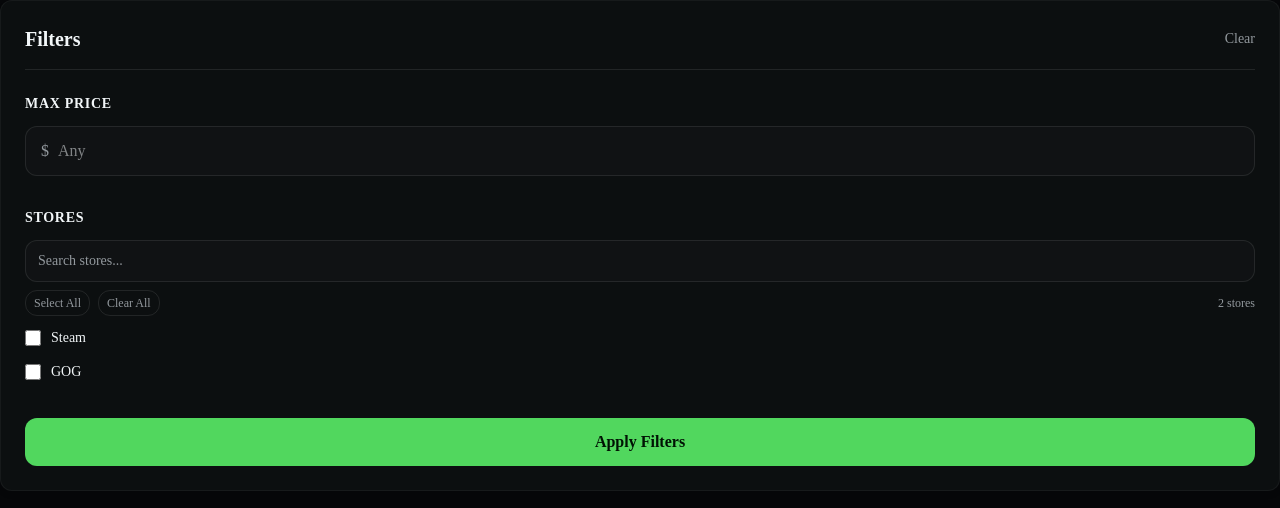
Scenario: FilterSidebar › clear filters resets state and pushes clean URL
Click the text "Steam" at (68, 338), box [51, 328, 86, 348]
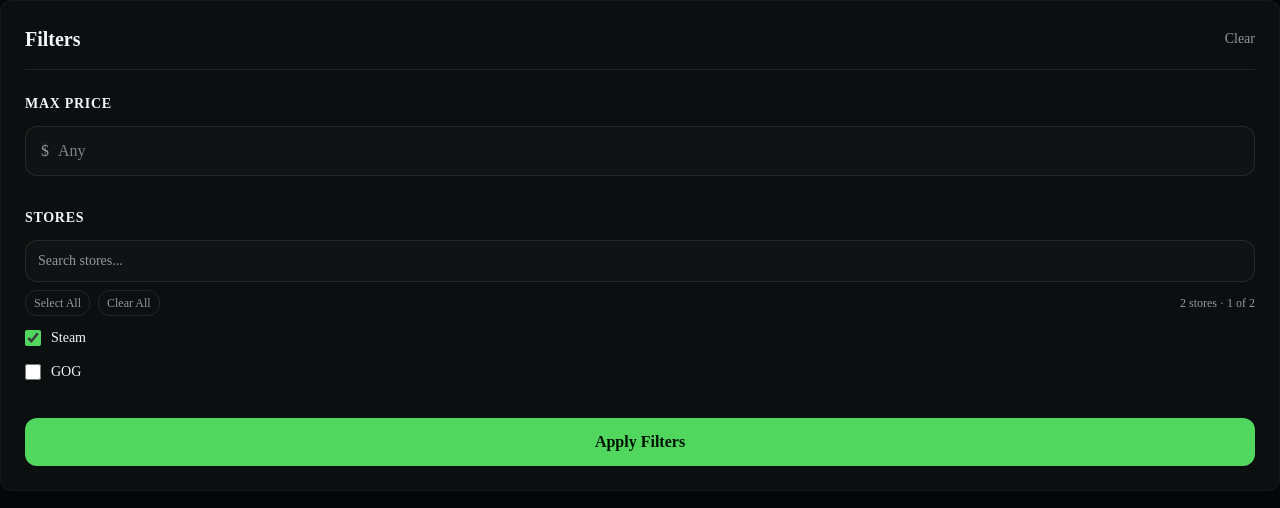
Type "25" into the number field named "Maximum price" at (640, 151), box [25, 126, 1255, 176]
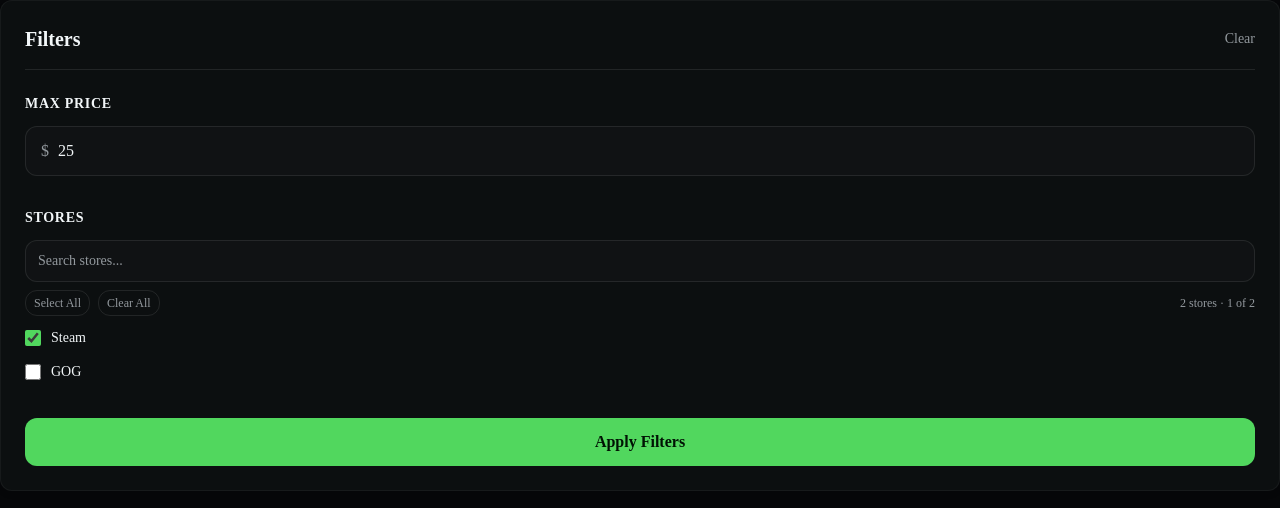
Click the button "Clear" at (1240, 39), box [1225, 29, 1255, 49]
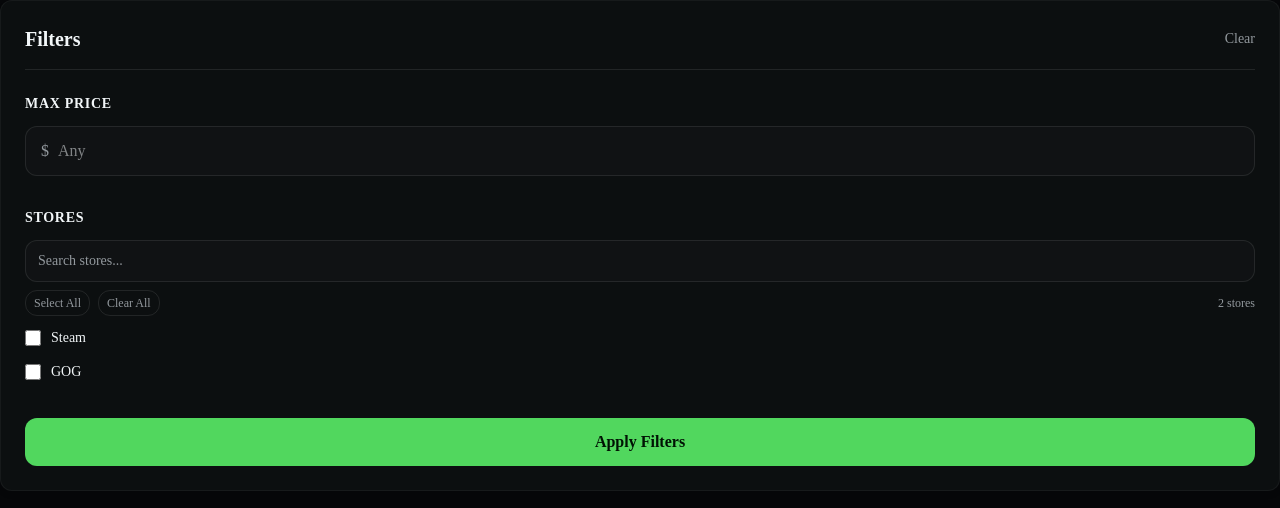
Now the number field named "Maximum price" is not empty, box [25, 126, 1255, 176]
